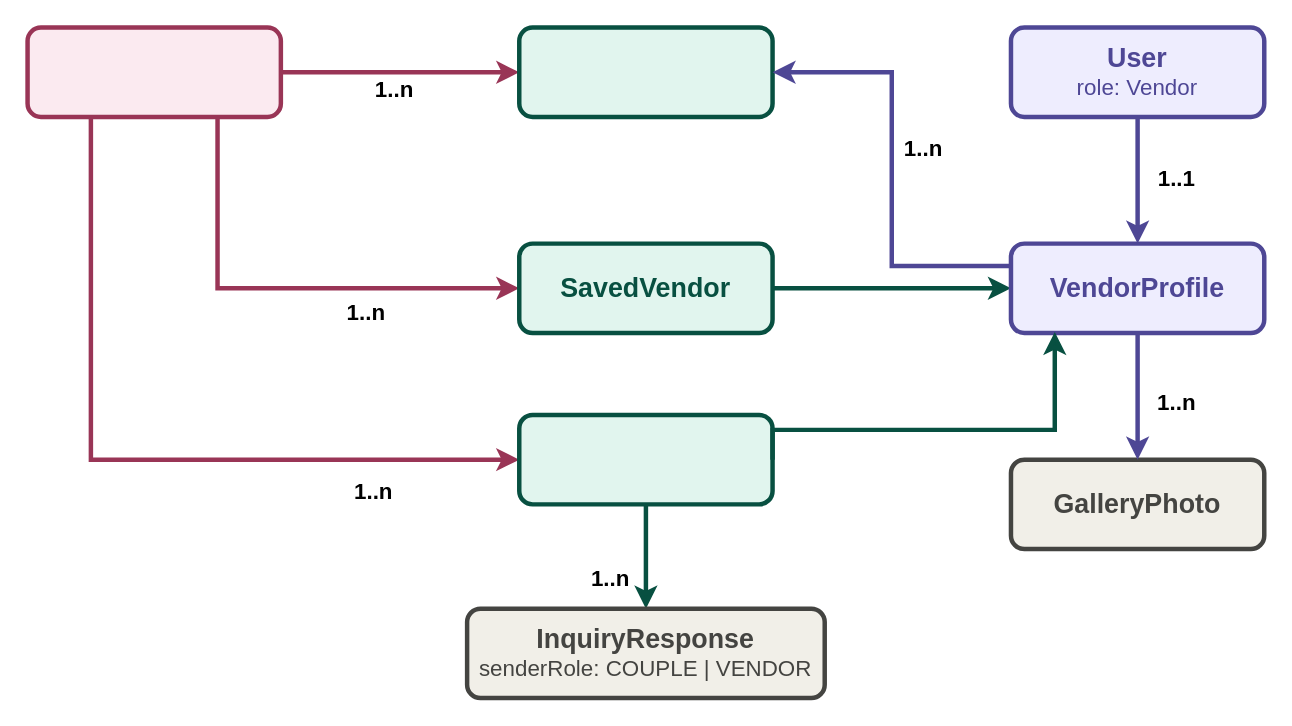
The diagram is 1292 pixels wide and 726 high, and some of its shapes have lost their labels. The shapes that lost their labels are listed below. From the top down, each one's centre as x and y in pixels, then its label:
At [153,71]: "User role: COUPLE".
At [645,71]: "Review".
At [645,459]: "Inquiry".
